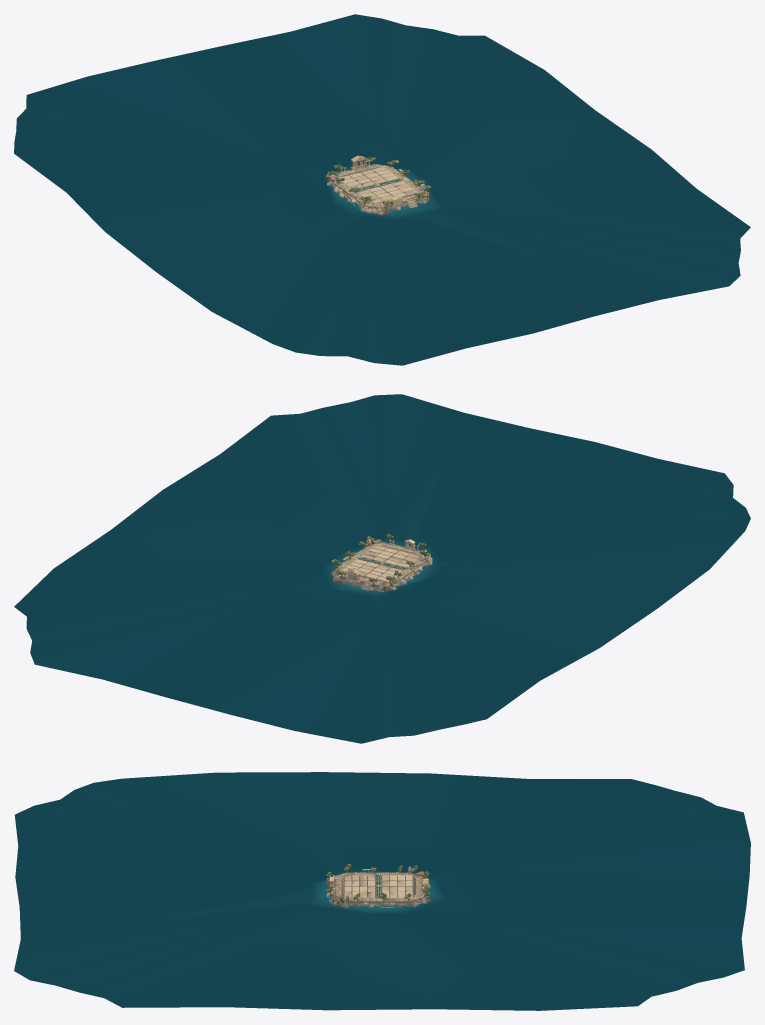
Rendered from arena_aegean.glb.
The picture shows the model from 3 angles, top to bottom: view 1: azimuth 30°, elevation 25°; view 2: azimuth 150°, elevation 25°; view 3: azimuth 270°, elevation 25°; orthographic projection.
Visible parts, largest first — view 1: Portrait arena with baked illumination; view 2: Portrait arena with baked illumination; view 3: Portrait arena with baked illumination.
Boxes of the visible parts, x1=… form: Portrait arena with baked illumination: x1=14, y1=14, x2=750, y2=365; Portrait arena with baked illumination: x1=14, y1=394, x2=750, y2=743; Portrait arena with baked illumination: x1=14, y1=772, x2=750, y2=1010.
Bounding box in the file's own units: 124 × 4.28 × 162.
